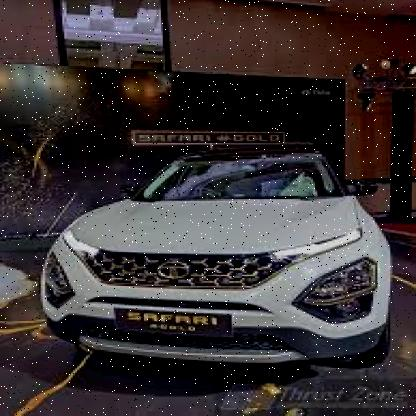car: (35, 135, 400, 381)
